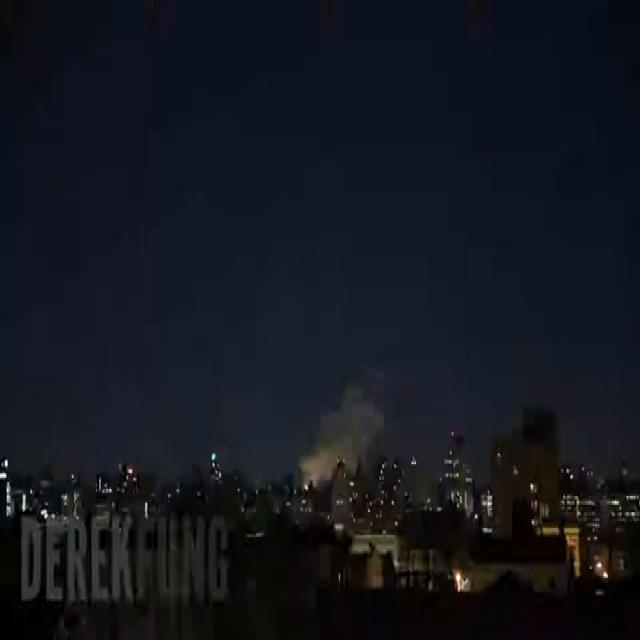smoke: (299, 384, 383, 482)
